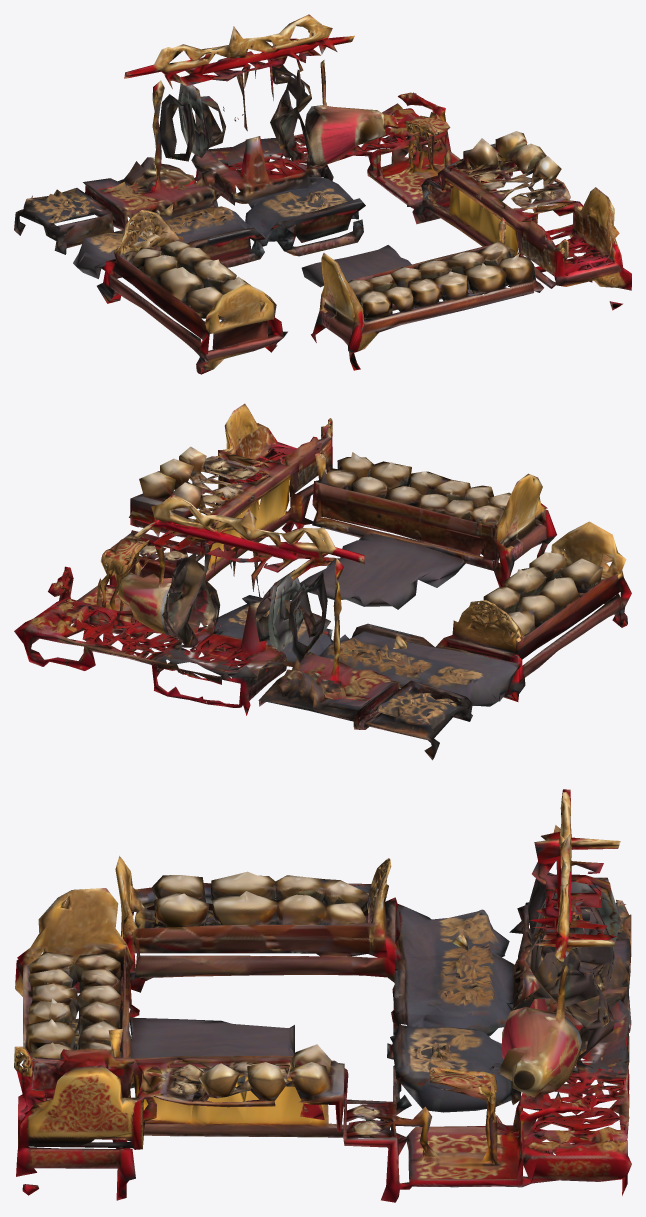
File: Gamelan.glb
3 renders of one model, top to bottom at view 1: azimuth 30°, elevation 25°; view 2: azimuth 150°, elevation 25°; view 3: azimuth 270°, elevation 25°, orthographic. The views are drawn at different scales.
Bounding box in the file's own units: 2 × 0.883 × 2.
Materials: 1 (1 with a texture image).
